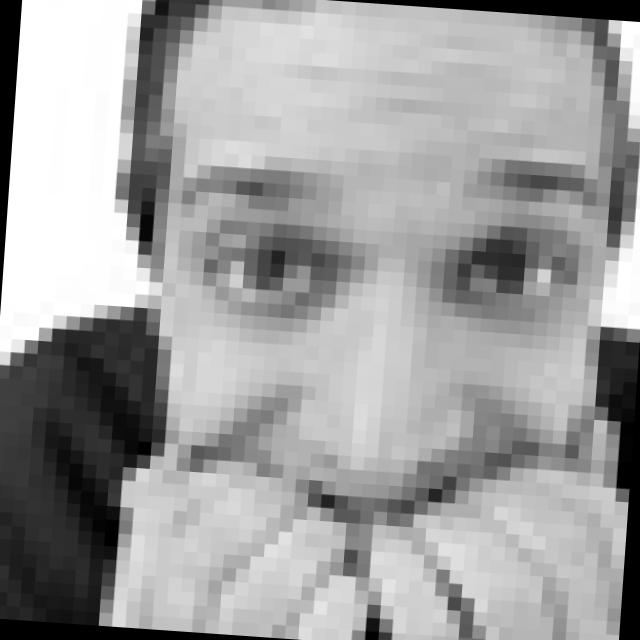fear: (160, 132, 602, 601)
